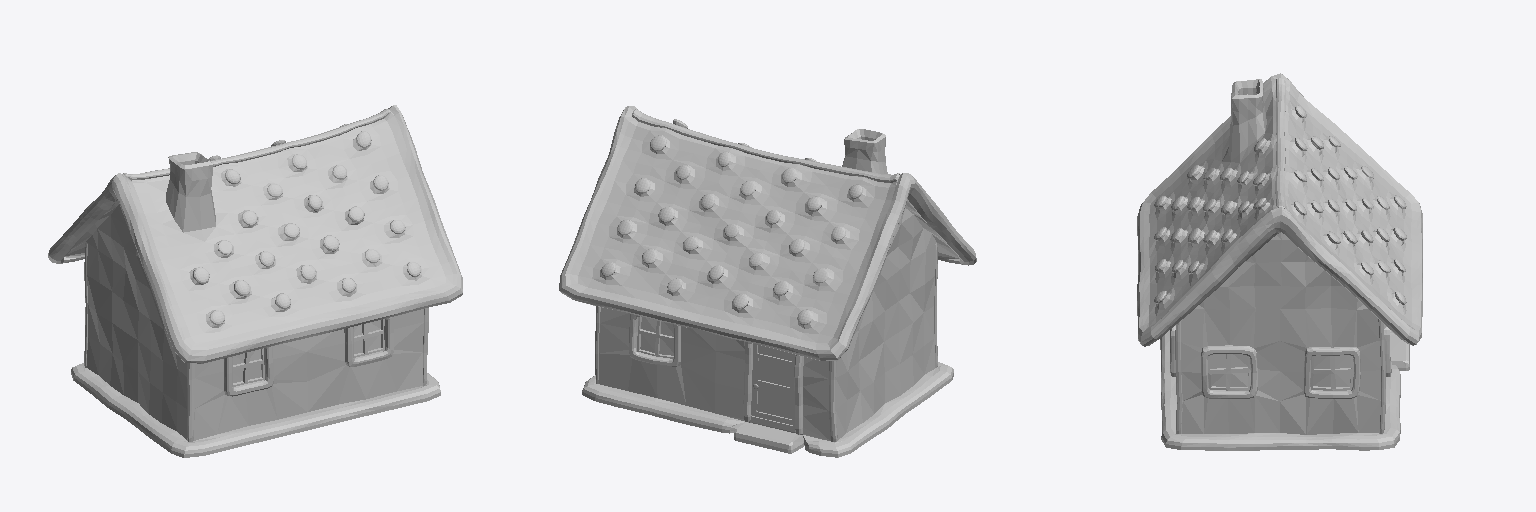
The model's file is gingerbreadhouse.obj.
3 views of the same model, side by side, from view 1: azimuth 30°, elevation 25°; view 2: azimuth 150°, elevation 25°; view 3: azimuth 270°, elevation 25° (orthographic).
Parts seen in each view (by area): view 1: gingerbreadhousemesh; view 2: gingerbreadhousemesh; view 3: gingerbreadhousemesh.
Part boxes in pixels (left/top/right/bottom): gingerbreadhousemesh: left=48, top=105, right=462, bottom=457; gingerbreadhousemesh: left=559, top=106, right=976, bottom=457; gingerbreadhousemesh: left=1137, top=73, right=1422, bottom=450.
Size of the model in its own units: 4.88 by 4.18 by 4.17.